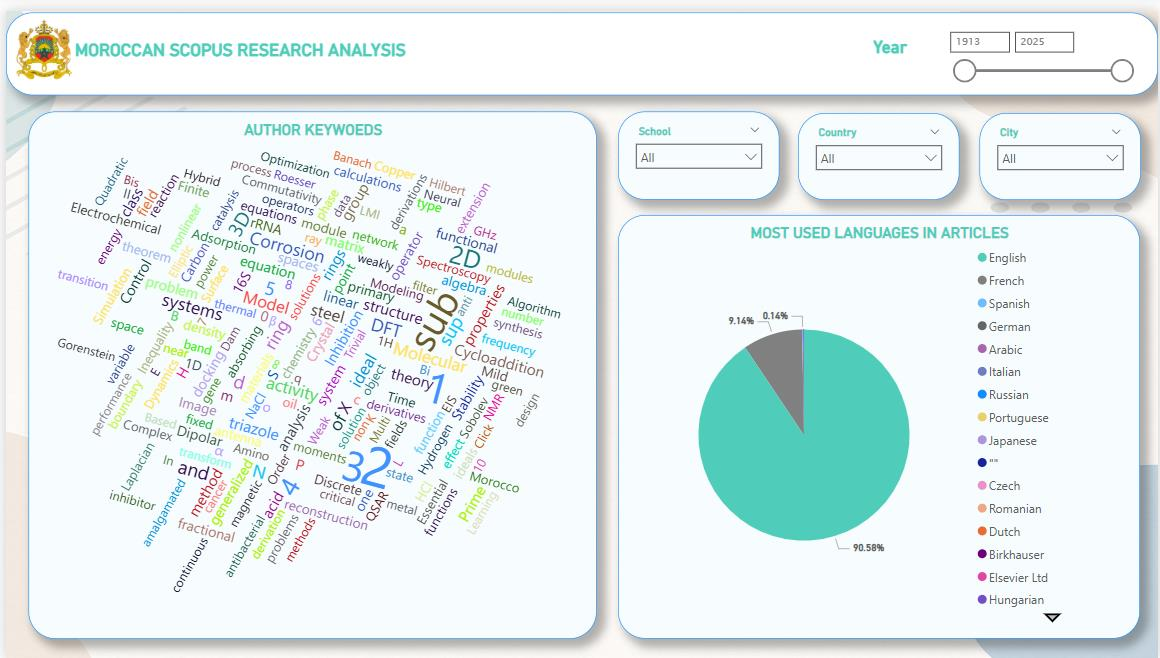

The dashboard page shown, as its layout file describes it:
{"tool":"powerbi","page":{"name":"Dashboard7","canvas":[1280,720],"ordinal":6},"visuals":[{"type":"slicer","fields":{"Values":["Affiliation.city"]},"box":[1081,113.4,179.5,96.4],"z":0},{"type":"slicer","fields":{"Values":["Affiliation.country"]},"box":[880.6,113.4,179.5,96.4],"z":1000},{"type":"slicer","fields":{"Values":["Affiliation.school"]},"box":[680.3,111.5,179.5,98.3],"z":2000},{"type":"WordCloud1447959067750","title":"AUTHOR KEYWOEDS","fields":{"Category":["Document.author keywords"]},"box":[24.6,111.5,631.2,585.8],"z":3000},{"type":"pieChart","title":"MOST USED LANGUAGES IN ARTICLES","fields":{"Category":["Document.language of original document"],"Y":["CountNonNull(Metadata.doc_id)"]},"box":[680.3,226.8,580.2,470.6],"z":4000},{"type":"textbox","box":[0,2,1280,92],"z":5000},{"type":"image","box":[0,0,84.5,84.5],"z":6000},{"type":"textbox","box":[71.8,26.5,393.1,41.6],"z":7000},{"type":"textbox","box":[958,24,68,34.7],"z":8000},{"type":"slicer","fields":{"Values":["Metadata.year"]},"box":[1026,3.3,244,86.7],"z":9000}]}

Visuals, with their boxes in screenshot pixels (x1, y1, x2, y2), scaled from the page's 1280x720 canvas onto the 1160x658 screenshot:
slicer - Affiliation.city: [left=980, top=104, right=1142, bottom=192]
slicer - Affiliation.country: [left=798, top=104, right=961, bottom=192]
slicer - Affiliation.school: [left=617, top=102, right=779, bottom=192]
"AUTHOR KEYWOEDS" WordCloud1447959067750: [left=22, top=102, right=594, bottom=637]
"MOST USED LANGUAGES IN ARTICLES" pieChart: [left=617, top=207, right=1142, bottom=637]
textbox: [left=0, top=2, right=1159, bottom=86]
image: [left=0, top=0, right=77, bottom=77]
textbox: [left=65, top=24, right=421, bottom=62]
textbox: [left=868, top=22, right=930, bottom=54]
slicer - Metadata.year: [left=930, top=3, right=1151, bottom=82]
